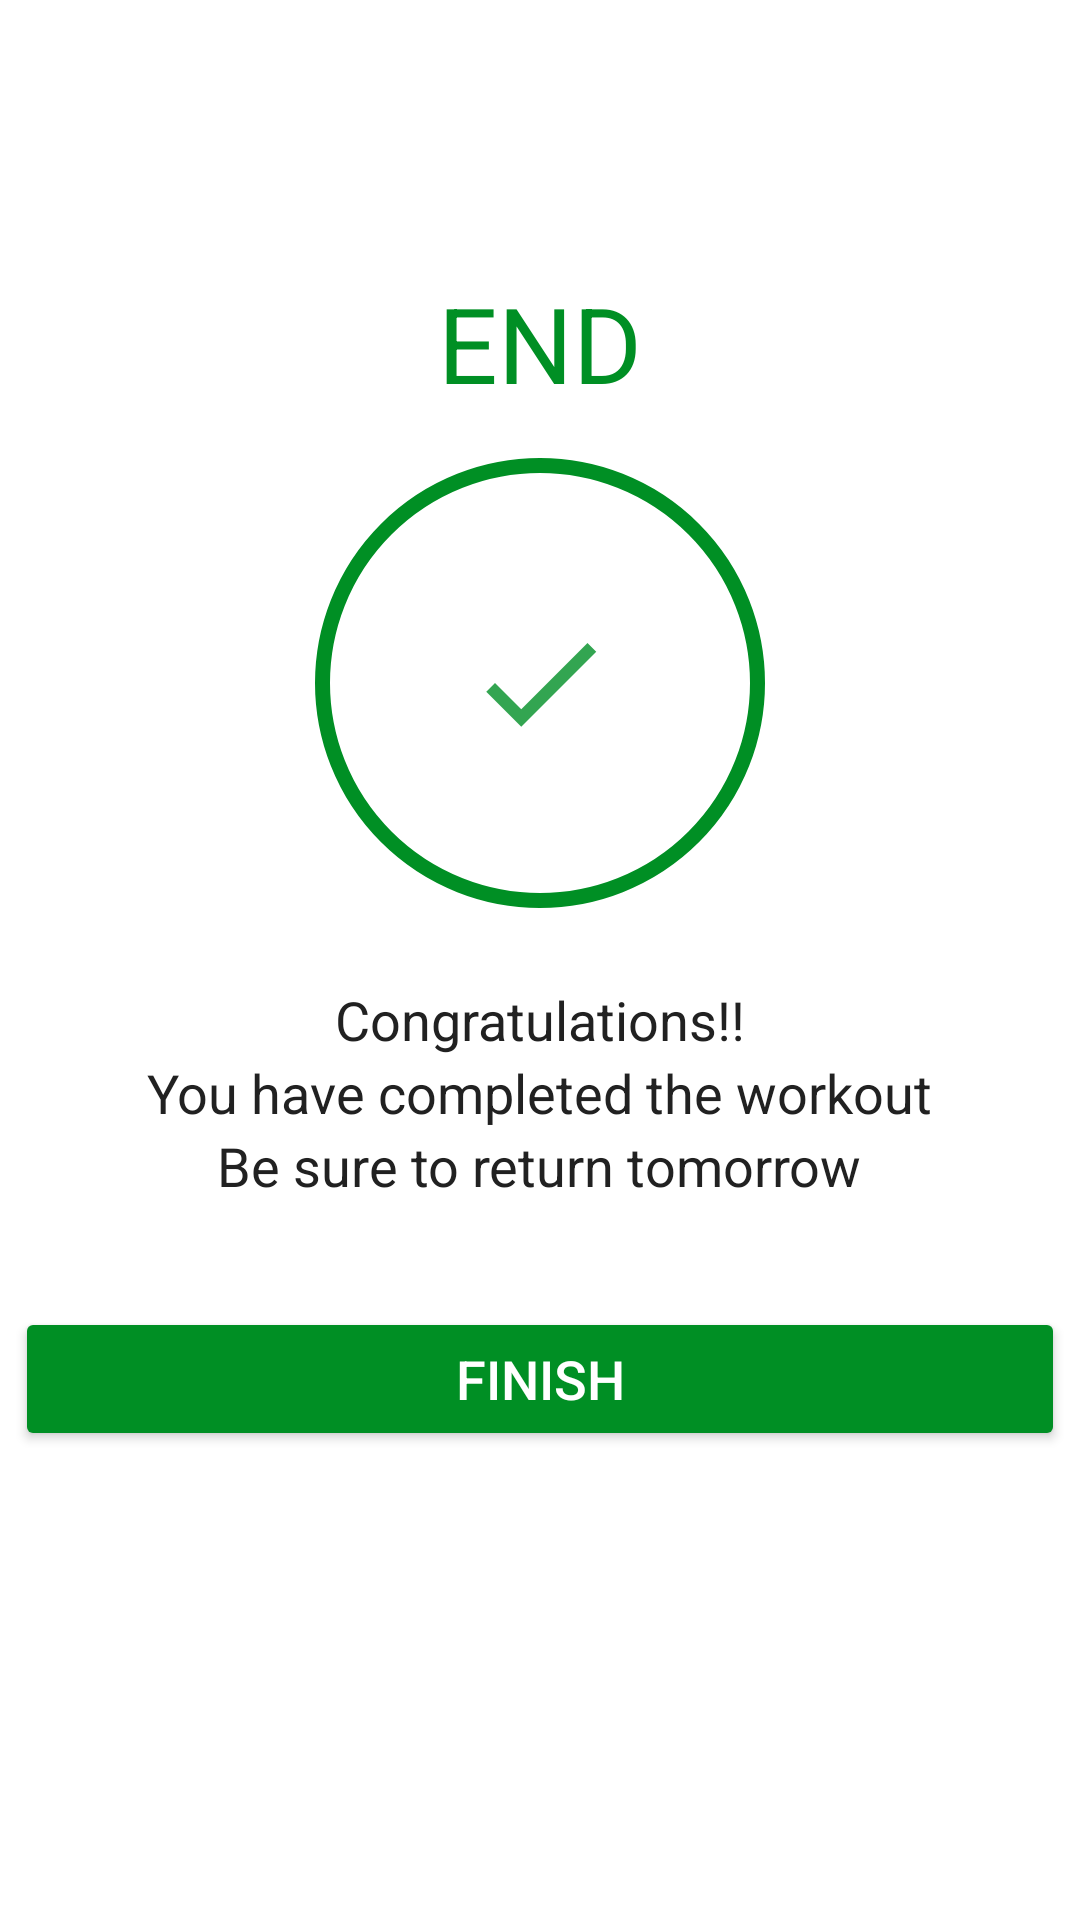

Locate icon controls on the screen. Image size 1080px×1920px, boxes as (x1, y1, x2, y2).
done: (486, 643, 596, 727)
